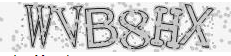8: (117, 8, 151, 51)
B: (83, 6, 118, 50)
H: (150, 5, 182, 51)
V: (52, 4, 84, 52)
W: (23, 2, 52, 50)
X: (178, 3, 215, 50)
